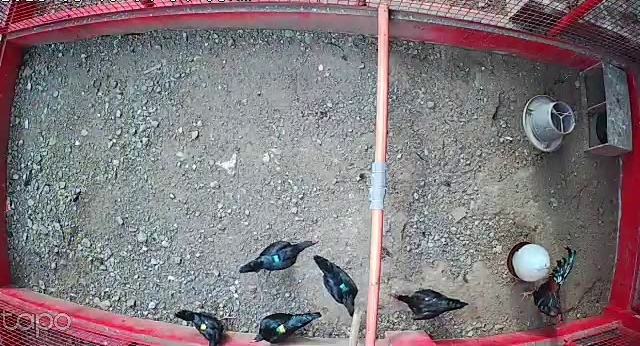Chicken: (235, 230, 324, 276), (388, 282, 473, 321), (247, 305, 326, 346), (313, 253, 358, 319), (173, 303, 235, 346), (249, 304, 250, 305)
Rooster: (518, 246, 579, 324)
Saddle_Color_Blue: (272, 252, 280, 264)
Saddle_Color_Yellow: (200, 322, 207, 330)
Saddle_Color_YellowGreen: (275, 324, 285, 334)
